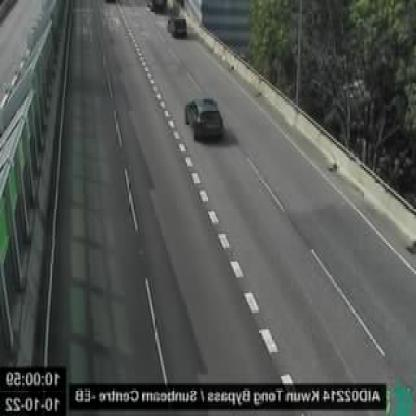Car: (186, 96, 225, 140), (166, 16, 186, 36)
